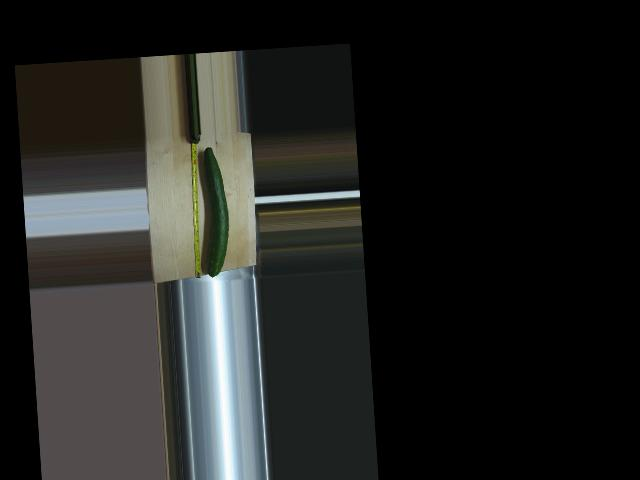cucumber: (198, 146, 232, 277)
